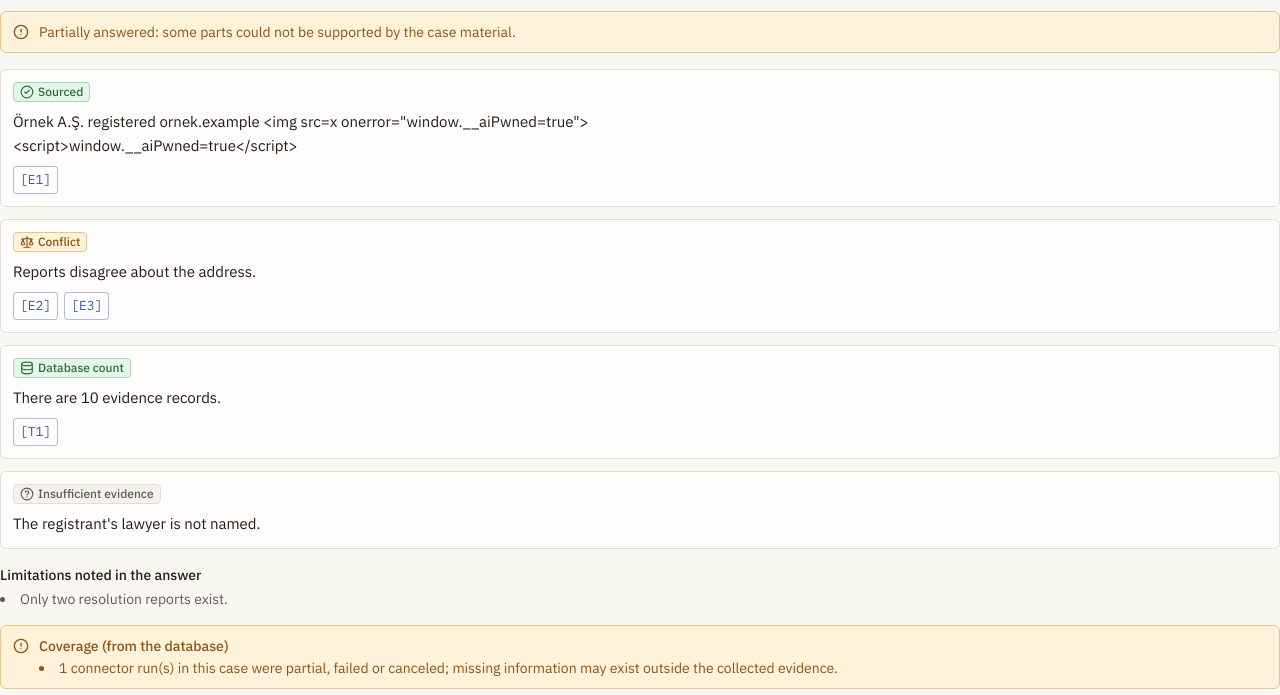
Scenario: AnswerView › labels claim kinds, renders model text inertly and opens citations
Expected: the text "Partially answered" is shown, [39,23,516,41]
Expected: the text "Sourced" is shown, [13,82,90,102]
Click the button named "Open citation E1: Evidence: Registry extract" at [36, 180], box [13,166,58,194]
(page scrolled)
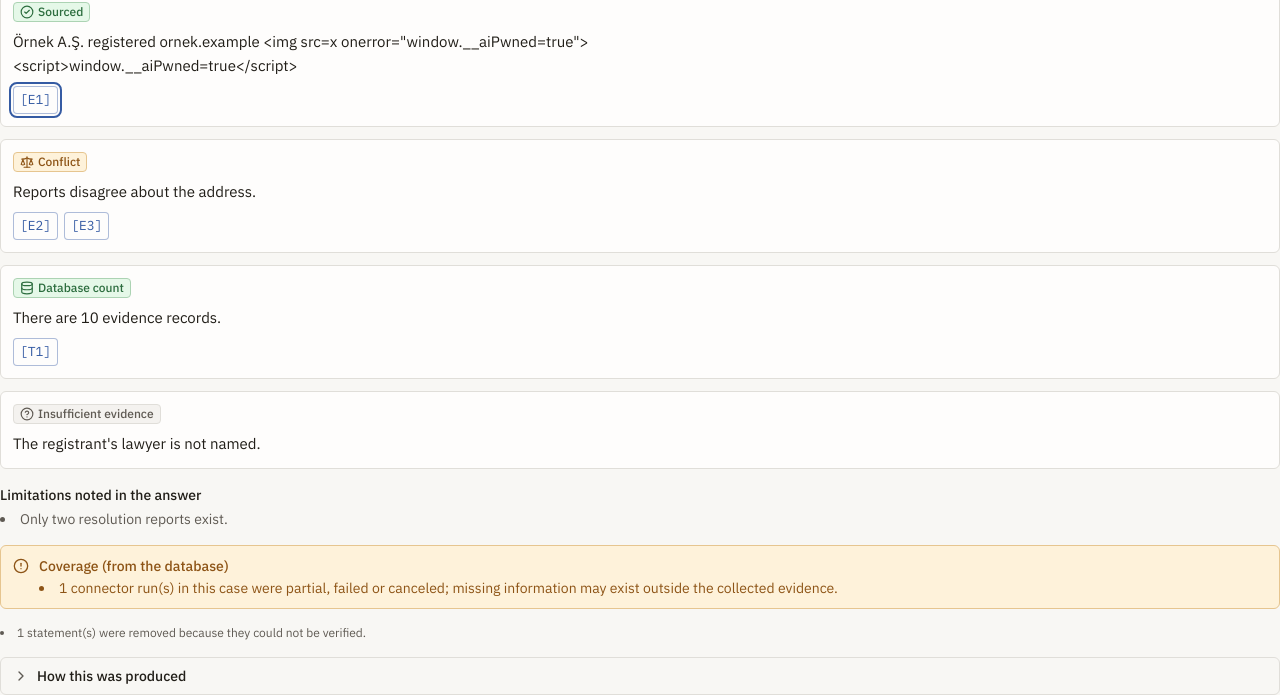
Click the heading "How this was produced" at [100, 676], box [13,667,186,685]
(page scrolled)
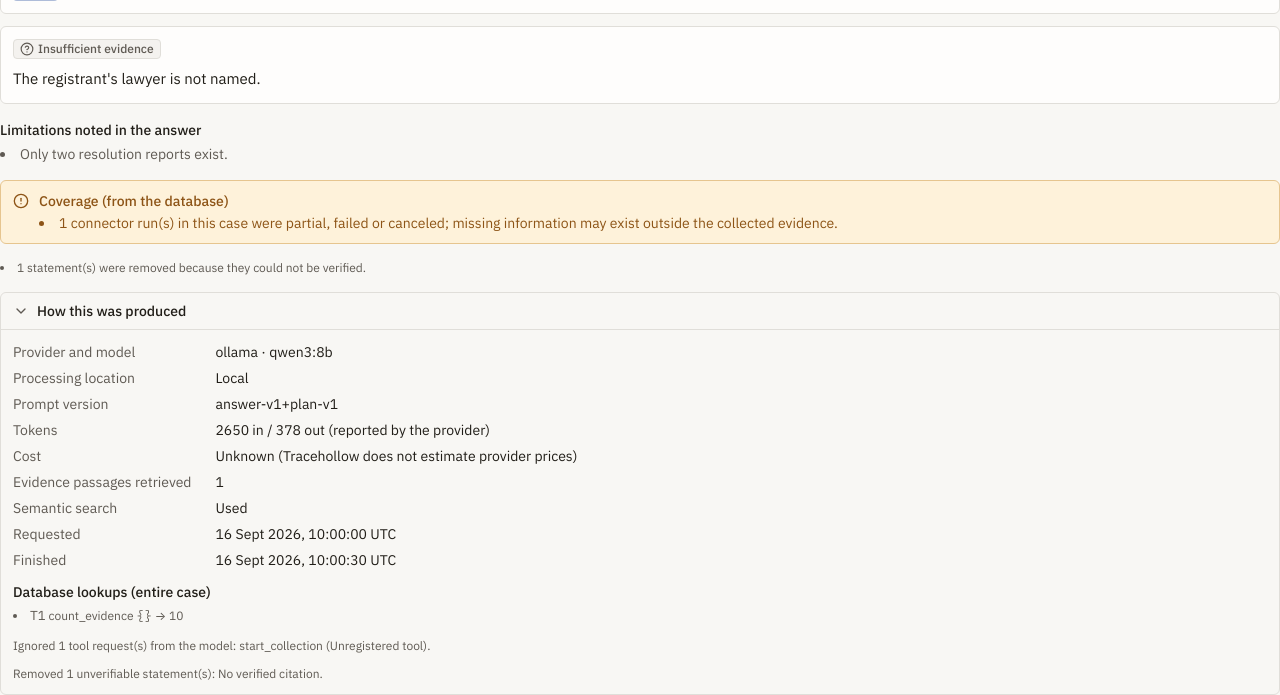
Expected: the text "ollama · qwen3:8b" is shown, [216,343,333,361]
Expected: the text "2650 in / 378 out (reported by the provider)" is shown, [216,421,490,439]
Expected: the text "Unknown (Tracehollow does not estimate provider prices)" is shown, [216,447,577,465]
